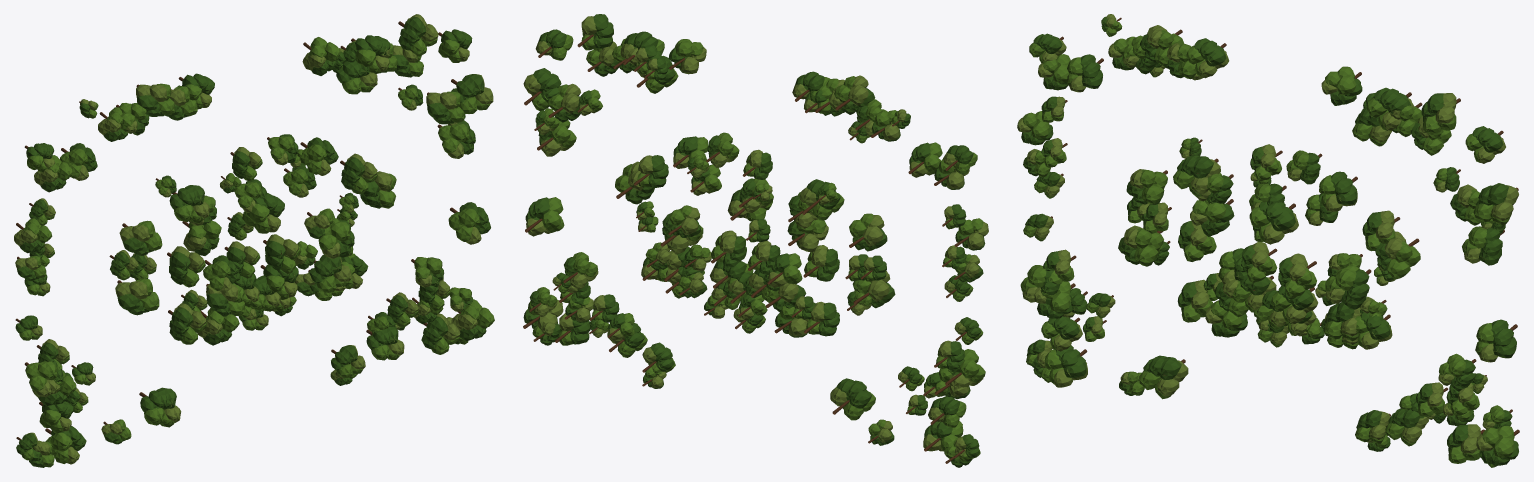
The model's file is broadleaf_clusters.obj.
3 renders of one model, left to right at view 1: azimuth 30°, elevation 25°; view 2: azimuth 150°, elevation 25°; view 3: azimuth 330°, elevation 25°, orthographic. The views are drawn at different scales.
Parts seen in each view (by area): view 1: broadleaf_clusters; view 2: broadleaf_clusters; view 3: broadleaf_clusters.
Part boxes in pixels (x1,y1,x2,y2): broadleaf_clusters: (14,14,494,467); broadleaf_clusters: (523,14,988,467); broadleaf_clusters: (1017,14,1519,467).
Size of the model in its own units: 79 by 58.45 by 9.11.
